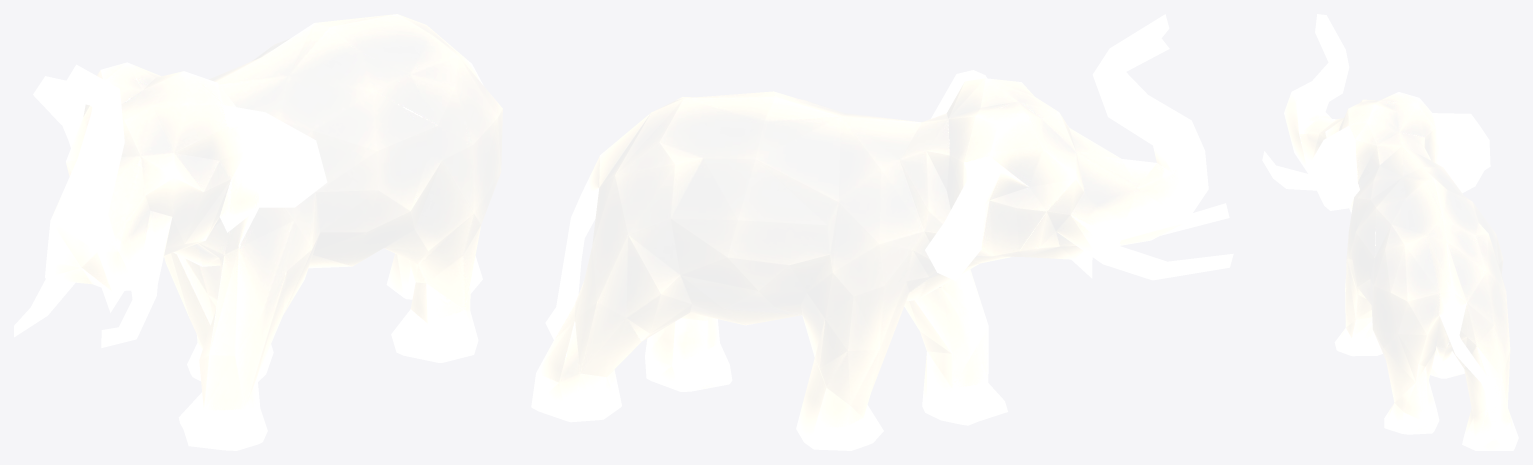
Rendered from elephant_color.glb.
3 renders of one model, left to right at view 1: azimuth 30°, elevation 25°; view 2: azimuth 150°, elevation 25°; view 3: azimuth 270°, elevation 25°, orthographic. The views are drawn at different scales.
Visible parts, largest first — view 1: elephant Low Poly; view 2: elephant Low Poly; view 3: elephant Low Poly.
Boxes of the visible parts, x1,y1,x2,y2 form: elephant Low Poly: [14, 14, 502, 450]; elephant Low Poly: [531, 14, 1233, 450]; elephant Low Poly: [1262, 14, 1518, 450].
Bounding box in the file's own units: 4.26 × 2.94 × 2.48.
Materials: 1 (1 with a texture image).
